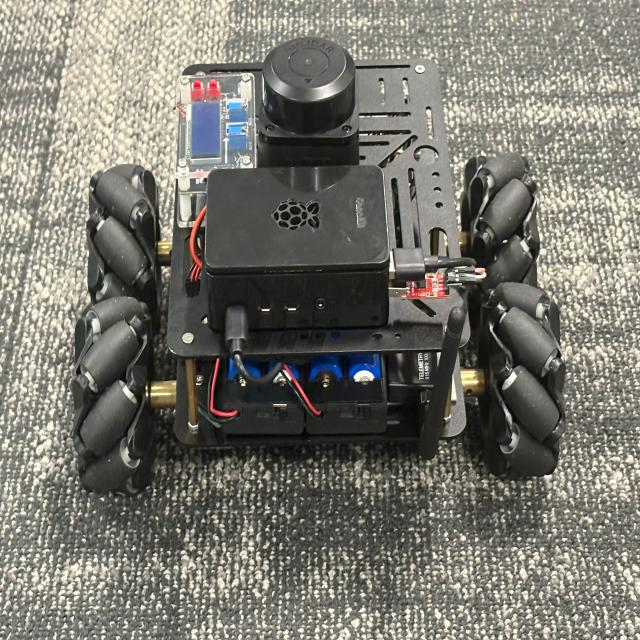ArduinoCar3: (73, 28, 566, 482)
